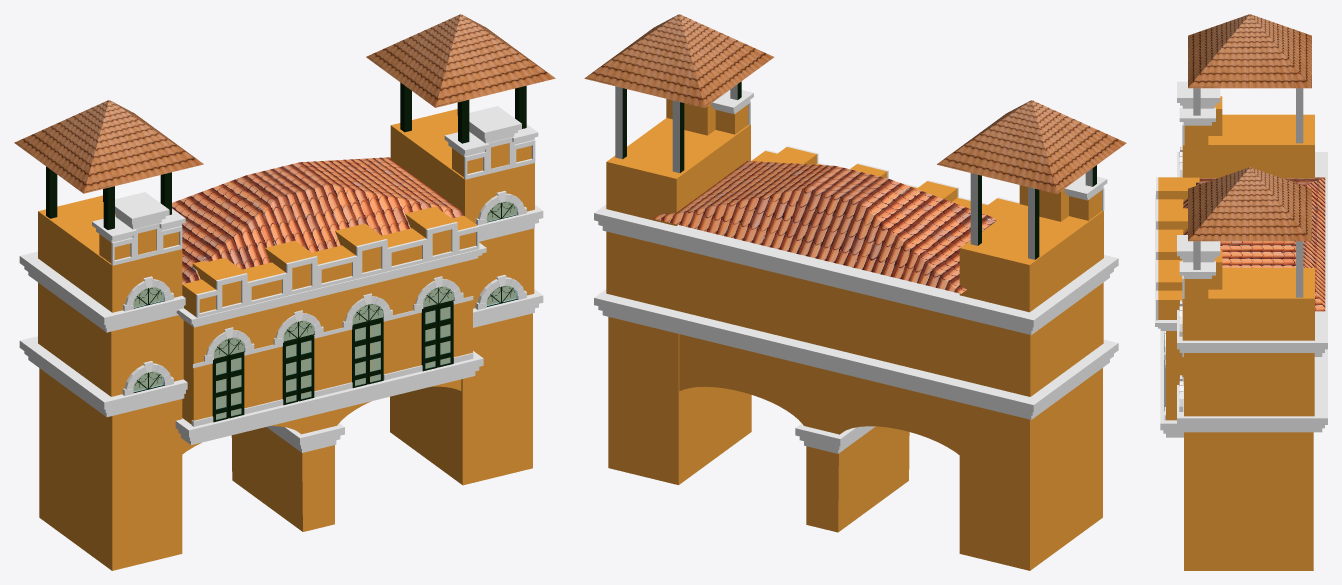
File: mercado_portal (1).FBX
3 renders of one model, left to right at view 1: azimuth 30°, elevation 25°; view 2: azimuth 150°, elevation 25°; view 3: azimuth 270°, elevation 25°, orthographic. The views are drawn at different scales.
Visible parts, largest first — view 1: amarelo_portal, brancos_pportal, telhadomeio_portal, telhado_duplo_portal, verdes_portal, vidros_portal, arcos_portal; view 2: amarelo_portal, brancos_pportal, telhadomeio_portal, telhado_duplo_portal, verdes_portal; view 3: amarelo_portal, telhado_duplo_portal, brancos_pportal, telhadomeio_portal, verdes_portal, arcos_portal.
Boxes of the visible parts, left/top/right/bottom form: amarelo_portal: left=38, top=109, right=534, bottom=570; brancos_pportal: left=19, top=106, right=543, bottom=452; telhadomeio_portal: left=172, top=157, right=463, bottom=284; telhado_duplo_portal: left=14, top=14, right=555, bottom=193; verdes_portal: left=46, top=82, right=526, bottom=422; vidros_portal: left=133, top=201, right=517, bottom=419; arcos_portal: left=122, top=191, right=526, bottom=395; amarelo_portal: left=606, top=99, right=1103, bottom=570; brancos_pportal: left=594, top=90, right=1118, bottom=453; telhadomeio_portal: left=653, top=161, right=995, bottom=293; telhado_duplo_portal: left=584, top=14, right=1126, bottom=193; verdes_portal: left=615, top=81, right=1096, bottom=259; amarelo_portal: left=1158, top=96, right=1314, bottom=570; telhado_duplo_portal: left=1188, top=14, right=1311, bottom=241; brancos_pportal: left=1155, top=81, right=1327, bottom=437; telhadomeio_portal: left=1183, top=177, right=1325, bottom=311; verdes_portal: left=1164, top=88, right=1303, bottom=411; arcos_portal: left=1164, top=146, right=1183, bottom=411.
Size of the model in its own units: 771 by 694 by 274.
